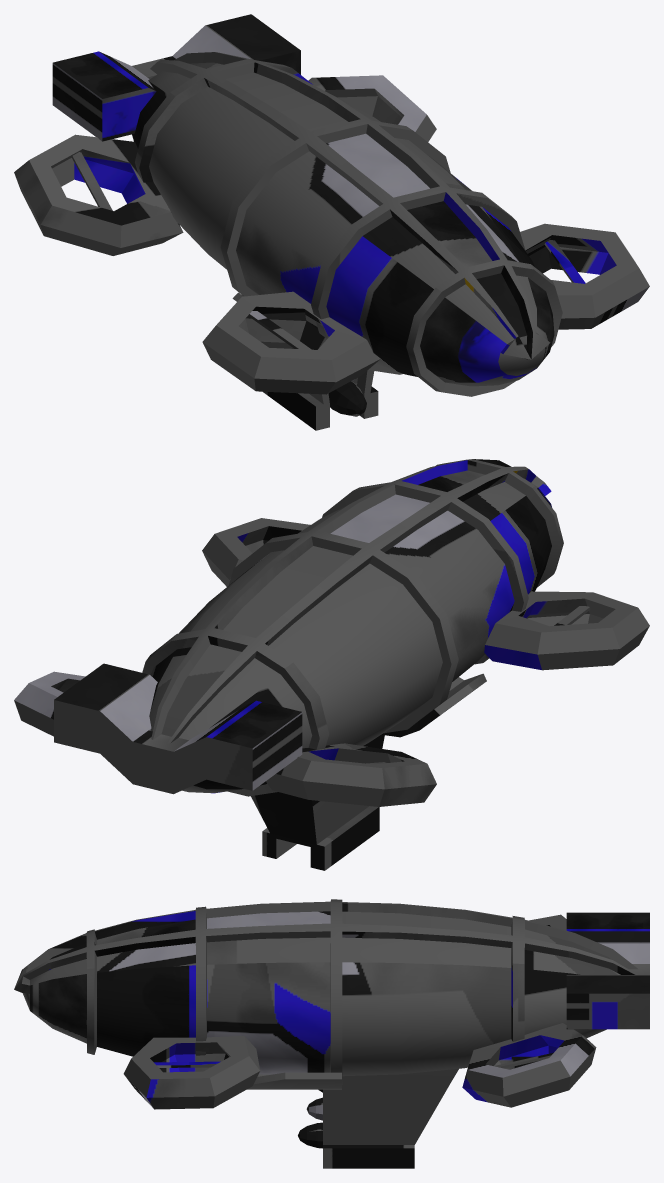
File: DreadNaught.fbx
3 views of the same model, one above another, from view 1: azimuth 30°, elevation 25°; view 2: azimuth 150°, elevation 25°; view 3: azimuth 270°, elevation 25° (orthographic). The views are drawn at different scales.
Parts seen in each view (by area): view 1: pTorus19; view 2: pTorus19; view 3: pTorus19.
Part boxes in pixels (x1,y1,x2,y2): pTorus19: (14,14,649,430); pTorus19: (14,459,649,870); pTorus19: (14,899,649,1168).
Size of the model in its own units: 5.03 by 3.32 by 7.88.
